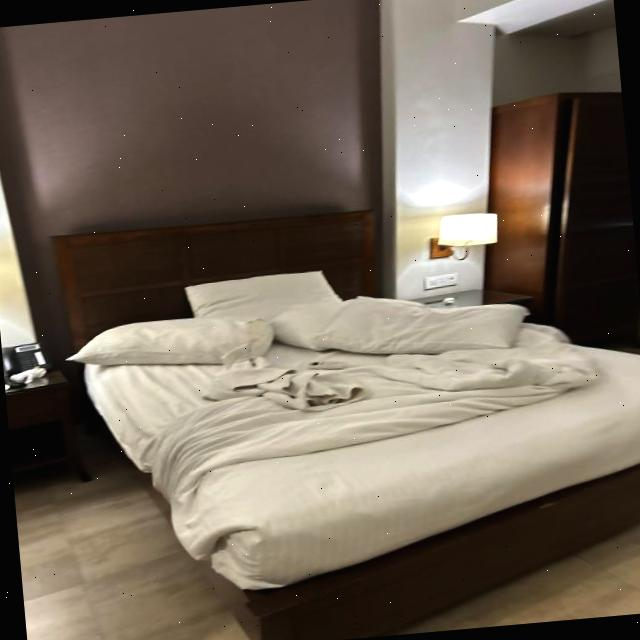Disorganized_pillow: (61, 268, 531, 364)
lamp: (428, 207, 502, 266)
mess: (200, 335, 566, 437)
messy_bed: (51, 210, 640, 640)
